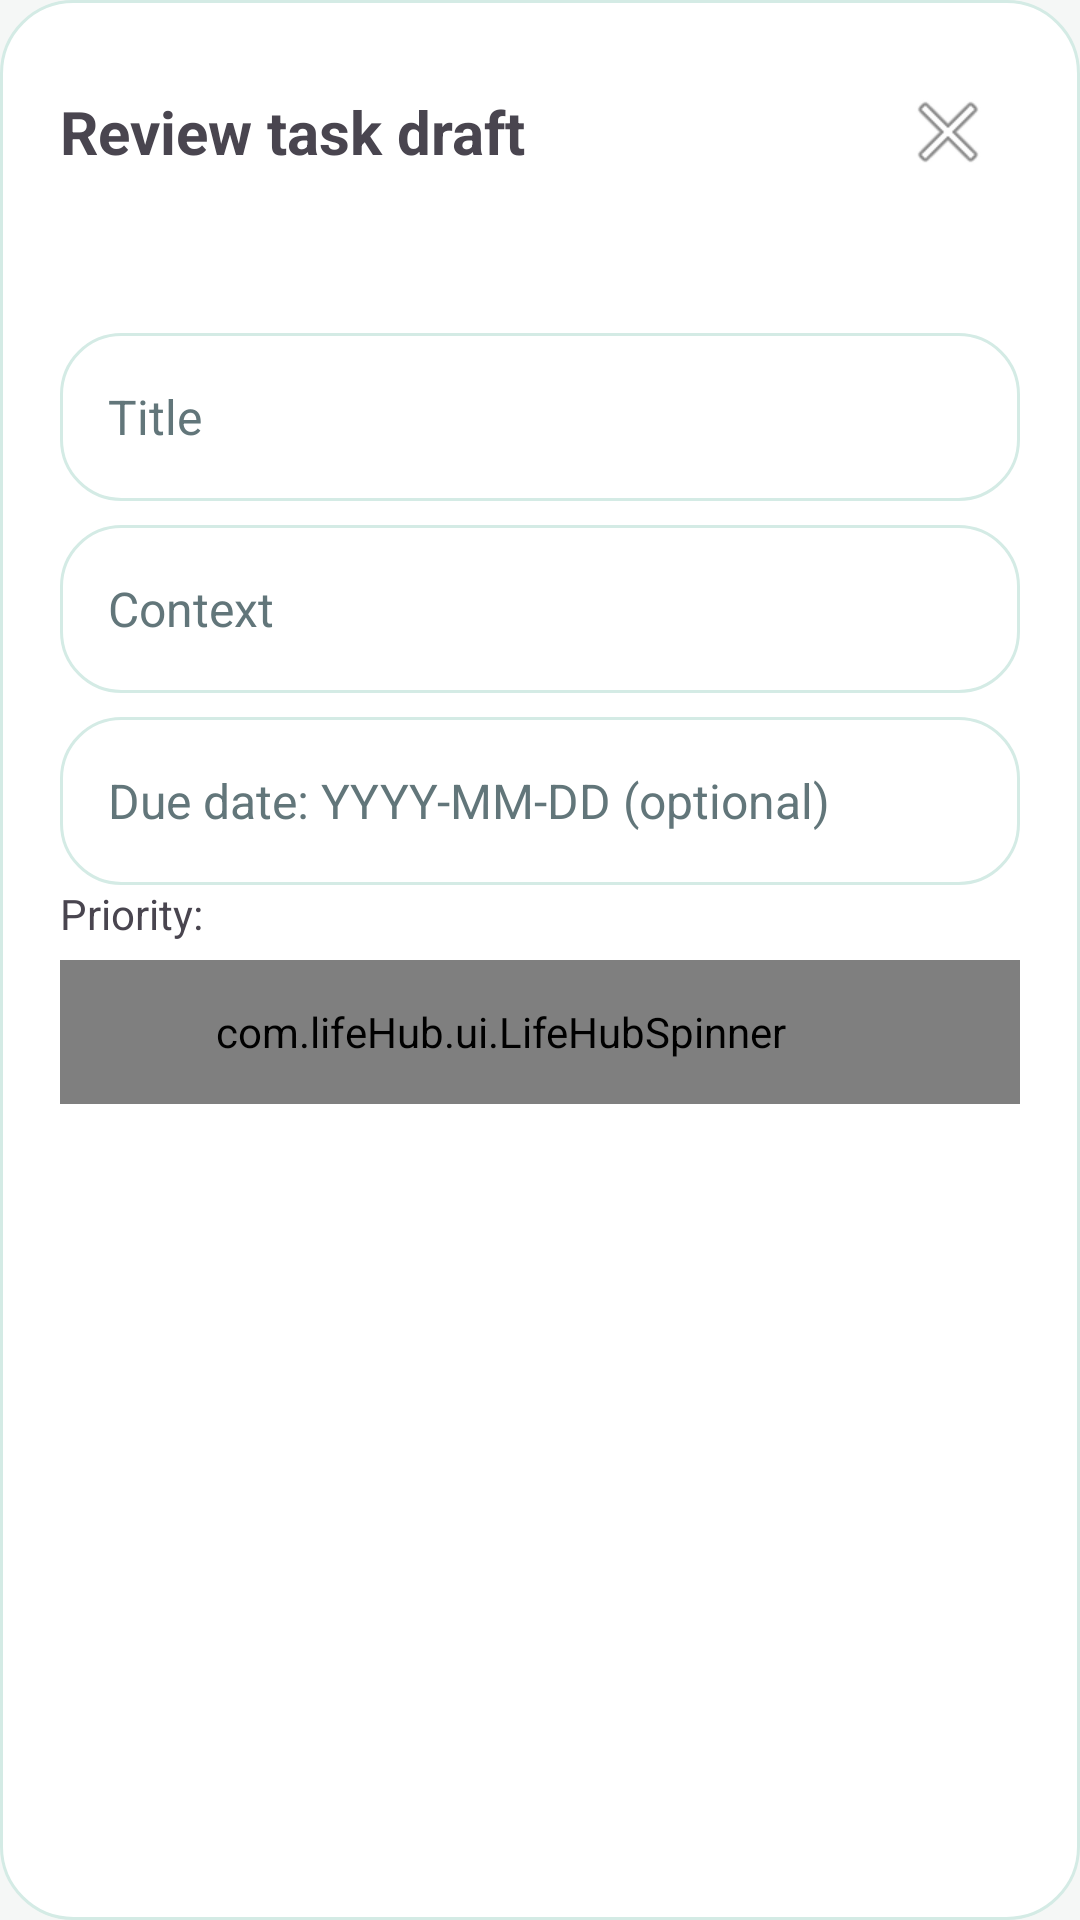

Icons on this 1080*1920 Android screen, each with its box as (x1, y1, x2, y2):
Close draft: (918, 102, 978, 162)
